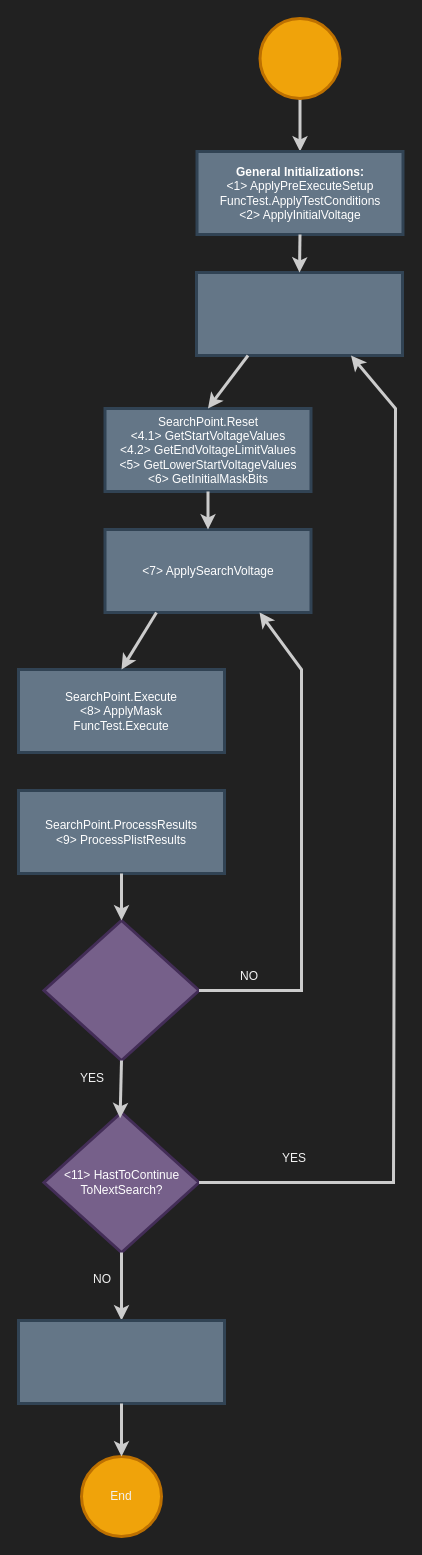
Some shapes in this 422 by 1555 pixel diagram are drawn without their labels. Here are the shapes that lost their labels. From the top down, the centre of each, then its label:
At (x=299, y=58): "Start".
At (x=299, y=313): "Per search initializations: <3> ApplyPreSearchSetup".
At (x=121, y=990): "SearchPoint. IsSearchCompleted?".
At (x=121, y=1361): "<12> PostProcessSearchResults".
